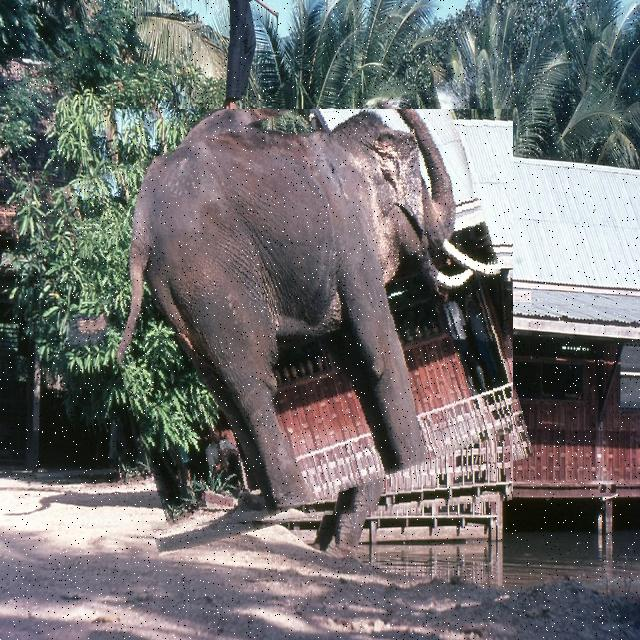elephant: (82, 109, 513, 534)
